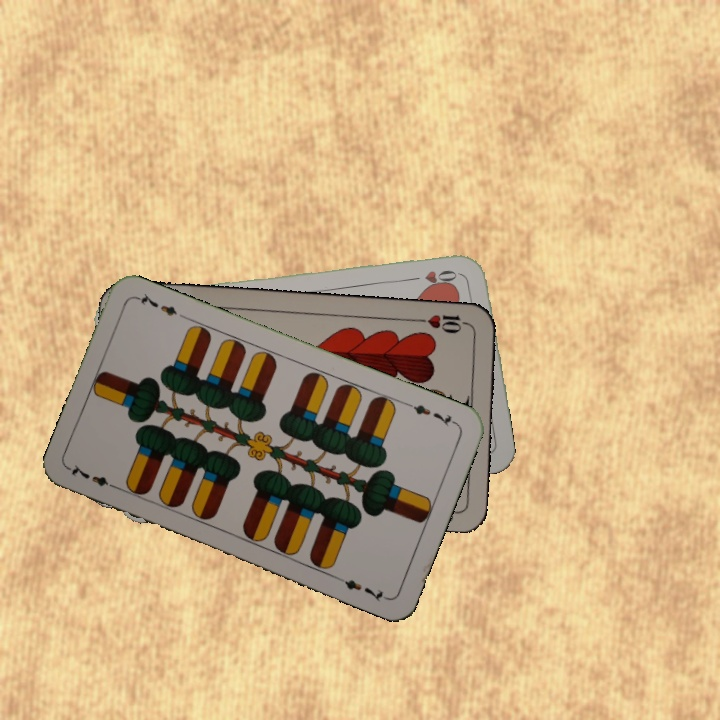E7: (66, 460, 122, 493), (403, 398, 460, 428)
H10: (413, 310, 473, 336)
HO: (405, 266, 464, 286)
